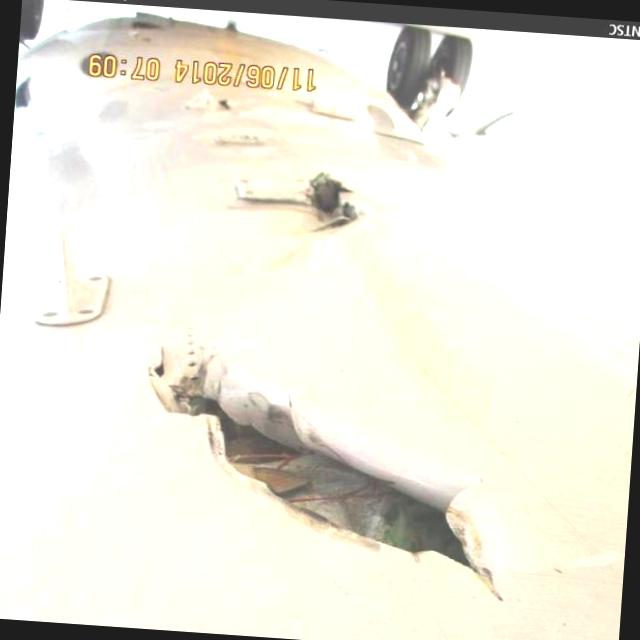crack: (133, 333, 514, 597)
